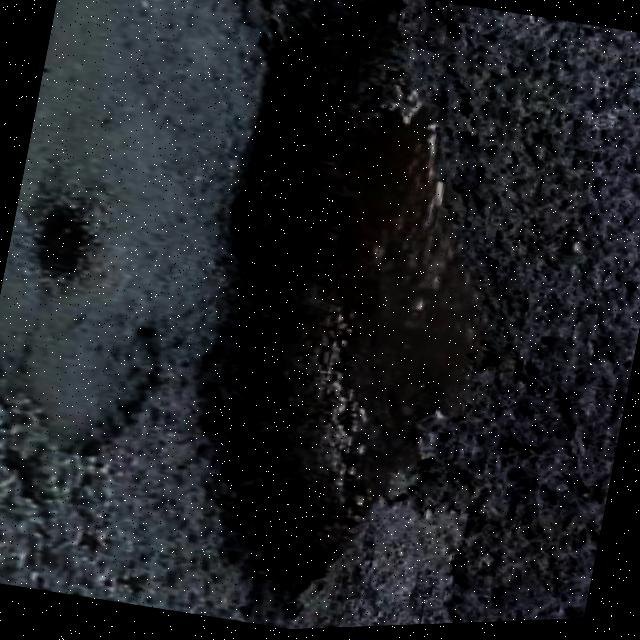Pothole: (80, 0, 631, 638)
